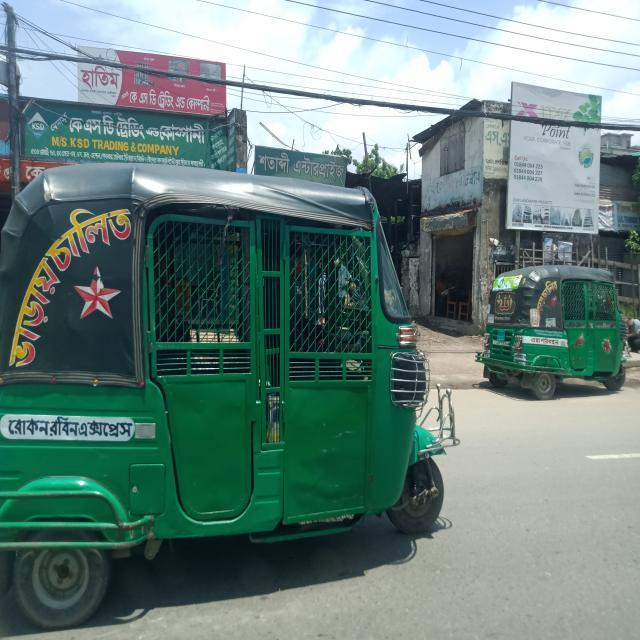CNG: (1, 167, 460, 635), (478, 264, 636, 402)
